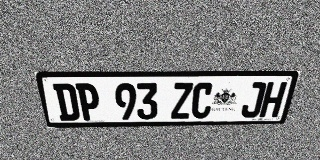3: (136, 83, 157, 119)
9: (114, 83, 137, 120)
C: (190, 82, 214, 119)
D: (52, 83, 80, 121)
H: (259, 82, 287, 117)
J: (240, 82, 267, 118)
P: (75, 83, 101, 120)
Z: (171, 83, 193, 119)
